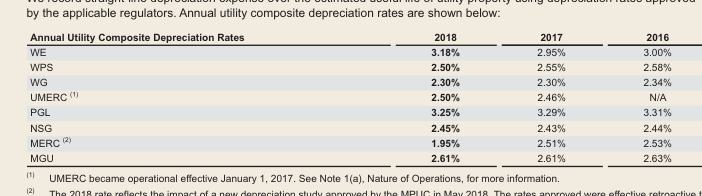table: (29, 29, 671, 164)
table column: (29, 29, 336, 164), (336, 29, 497, 164), (497, 29, 603, 164), (603, 29, 671, 164)
table column header: (29, 29, 671, 44)
table row: (29, 88, 671, 104), (29, 134, 671, 150), (29, 29, 671, 44), (29, 44, 671, 59), (29, 59, 671, 74), (29, 104, 671, 119), (29, 119, 671, 134), (29, 74, 671, 88), (29, 150, 671, 164)
